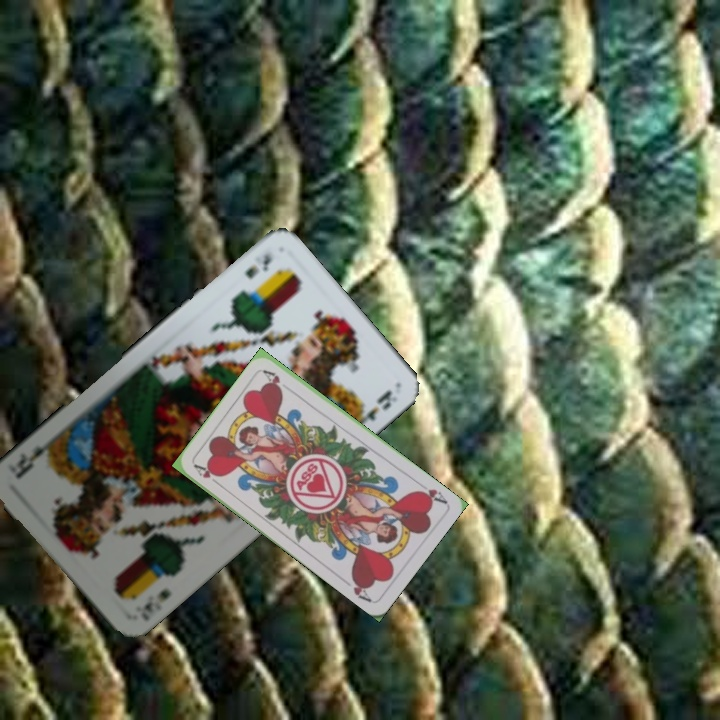EK: (139, 584, 174, 616), (241, 249, 275, 281)
HA: (190, 460, 225, 490), (412, 478, 449, 506)
